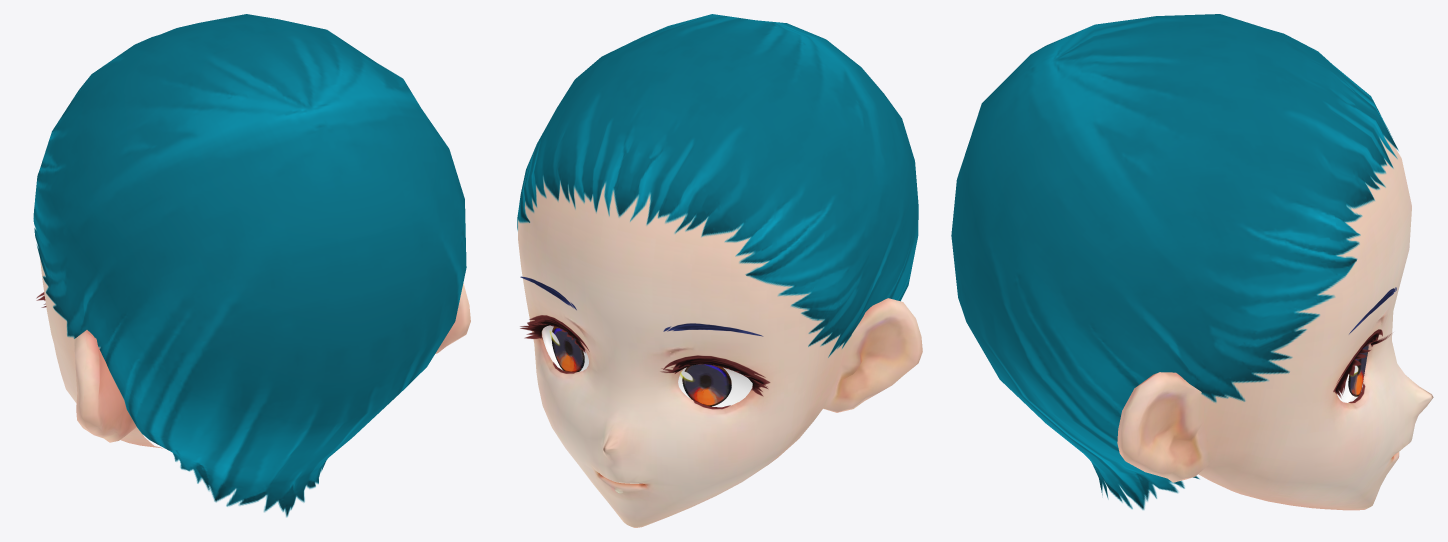
File: base_female.glb
3 views of the same model, side by side, from view 1: azimuth 30°, elevation 25°; view 2: azimuth 150°, elevation 25°; view 3: azimuth 270°, elevation 25° (orthographic). The views are drawn at different scales.
Parts seen in each view (by area): view 1: Hair_Body, Facebaked; view 2: Facebaked, Hair_Body; view 3: Hair_Body, Facebaked.
Part boxes in pixels (x1=…): Hair_Body: x1=33, y1=14, x2=466, y2=517; Facebaked: x1=35, y1=229, x2=470, y2=448; Facebaked: x1=518, y1=177, x2=922, y2=527; Hair_Body: x1=517, y1=14, x2=918, y2=357; Hair_Body: x1=951, y1=14, x2=1398, y2=509; Facebaked: x1=1117, y1=136, x2=1433, y2=510.
Size of the model in its own units: 0.2165 by 0.2432 by 0.2254.
Materials: 10 (10 with a texture image).
